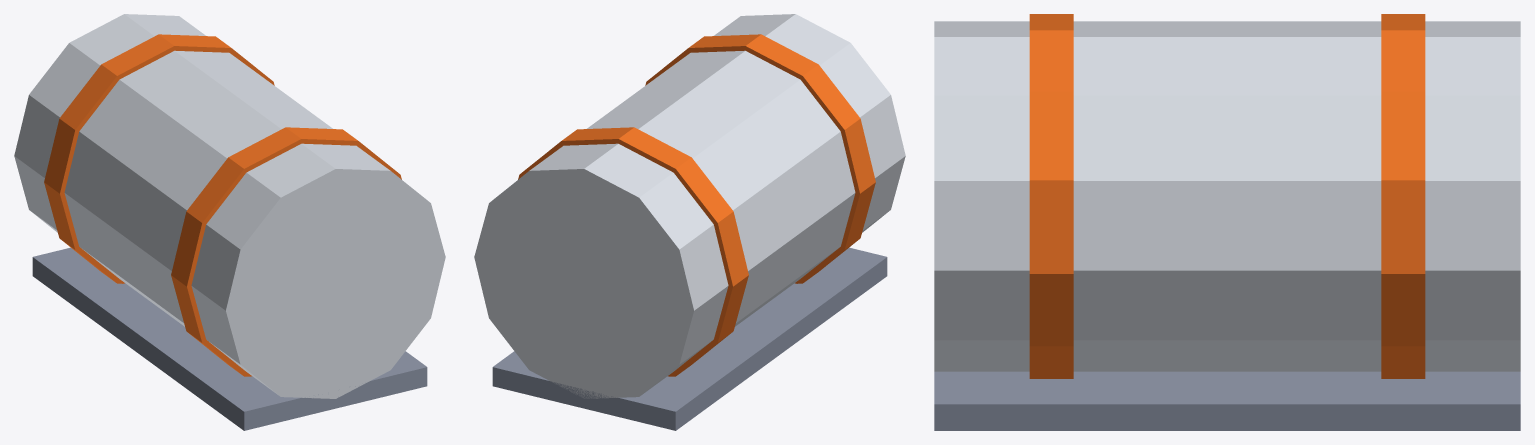
File: colony-hab-module.glb
3 views of the same model, side by side, from view 1: azimuth 30°, elevation 25°; view 2: azimuth 150°, elevation 25°; view 3: azimuth 270°, elevation 25° (orthographic). The views are drawn at different scales.
Parts seen in each view (by area): view 1: hab_module; view 2: hab_module; view 3: hab_module.
Boxes of the visible parts, x1,y1,x2,y2 form: hab_module: (14, 14, 445, 430); hab_module: (474, 14, 905, 430); hab_module: (934, 14, 1520, 430).
Bounding box in the file's own units: 2.5 × 2.55 × 4.
